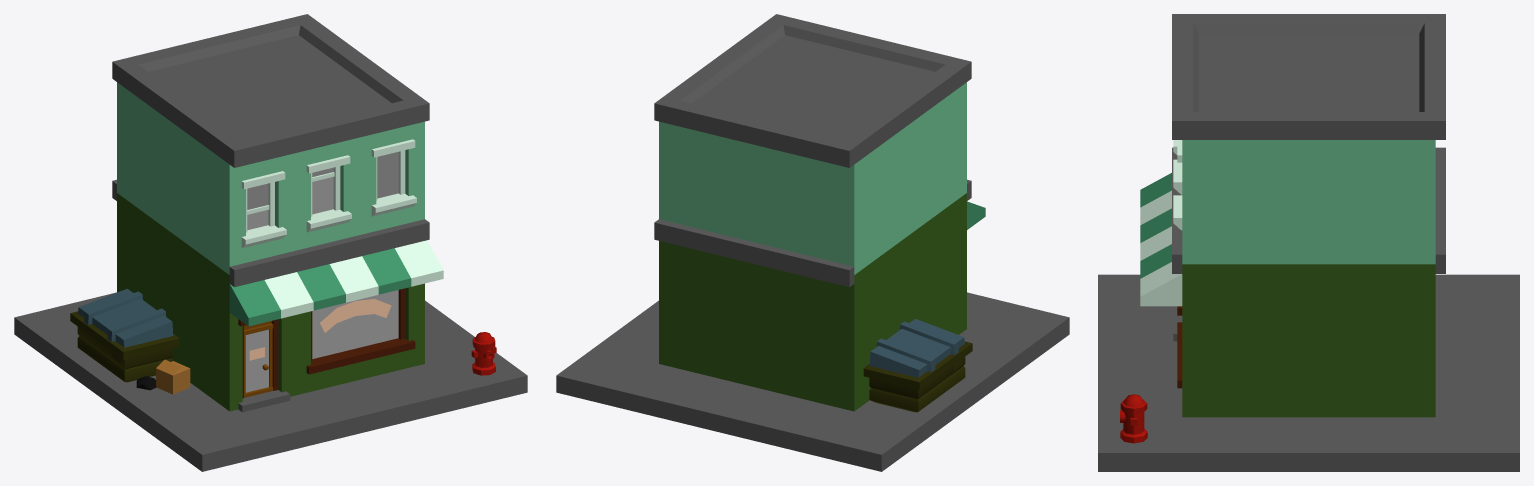
Rendered from SolidColorTestObject.fbx.
3 renders of one model, left to right at view 1: azimuth 30°, elevation 25°; view 2: azimuth 150°, elevation 25°; view 3: azimuth 270°, elevation 25°, orthographic. The views are drawn at different scales.
Visible parts, largest first — view 1: building_A; view 2: building_A; view 3: building_A.
Part boxes in pixels (x1,y1,x2,y2): building_A: (14,14,527,471); building_A: (556,14,1069,471); building_A: (1098,14,1519,471).
Bounding box in the file's own units: 200 × 165 × 200.
